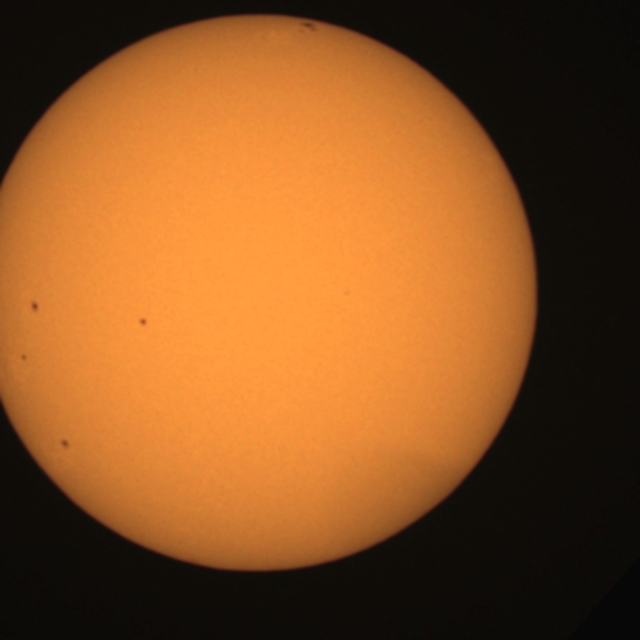sunspot: (297, 21, 318, 36), (59, 437, 71, 451), (29, 299, 40, 314), (341, 288, 352, 299), (138, 317, 148, 328), (20, 353, 28, 362)
